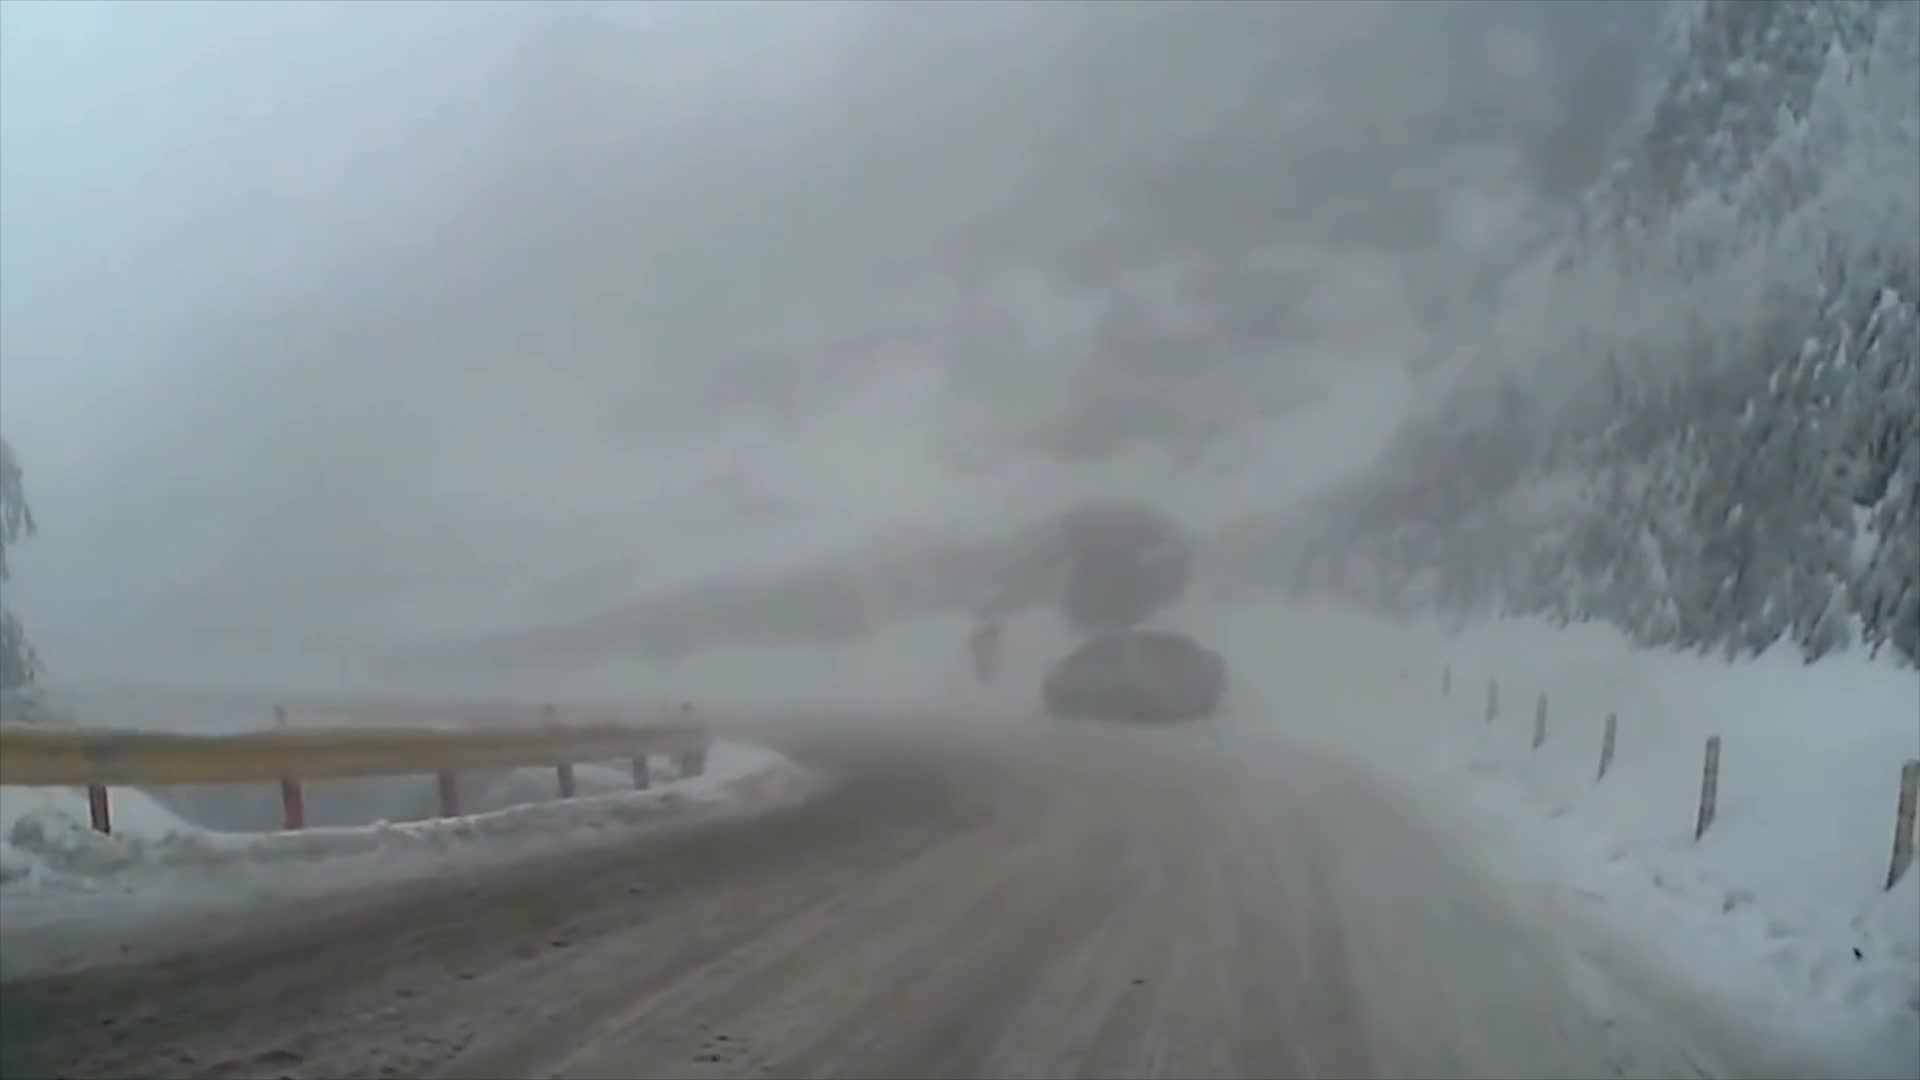pedestrian: (967, 624, 1004, 688)
vehicle: (1040, 629, 1225, 722)
